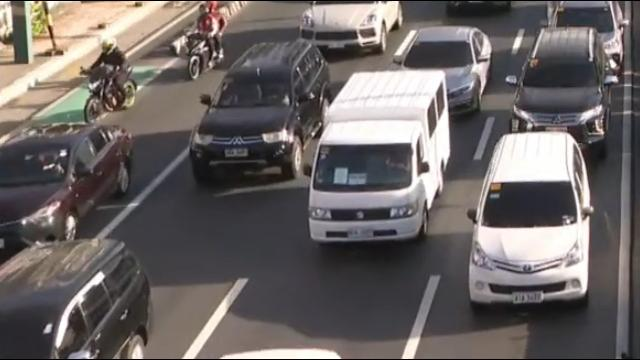car: (468, 132, 592, 306), (187, 44, 326, 188), (0, 239, 152, 360), (0, 123, 134, 254), (513, 27, 612, 150), (393, 28, 491, 112), (299, 0, 403, 52)
motorcycle: (82, 34, 137, 122), (184, 2, 226, 76)
van: (307, 68, 449, 245)
